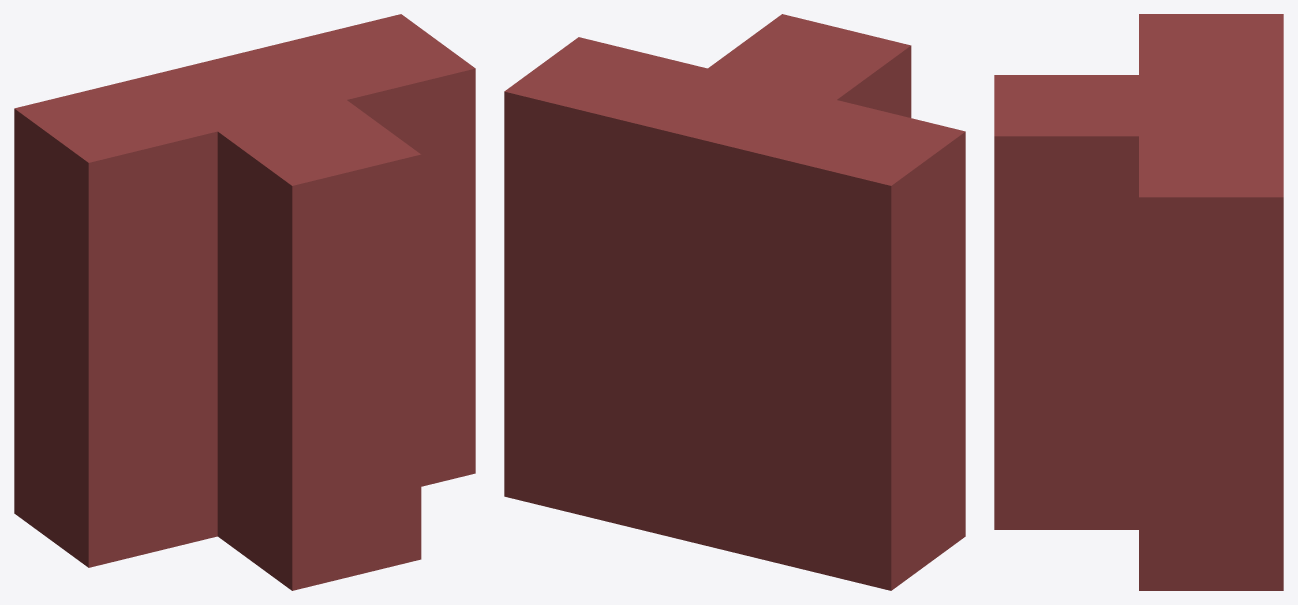
Rendered from T-Corner 3x2.fbx.
The picture shows the model from 3 angles, left to right: view 1: azimuth 30°, elevation 25°; view 2: azimuth 150°, elevation 25°; view 3: azimuth 270°, elevation 25°; orthographic projection. The views are drawn at different scales.
Parts seen in each view (by area): view 1: T_Corner_3x2; view 2: T_Corner_3x2; view 3: T_Corner_3x2.
Boxes of the visible parts, box(x1,y1,x2,y2) form: T_Corner_3x2: box(14, 14, 475, 590); T_Corner_3x2: box(504, 14, 965, 590); T_Corner_3x2: box(994, 14, 1283, 590).
Size of the model in its own units: 3 by 3 by 2.
